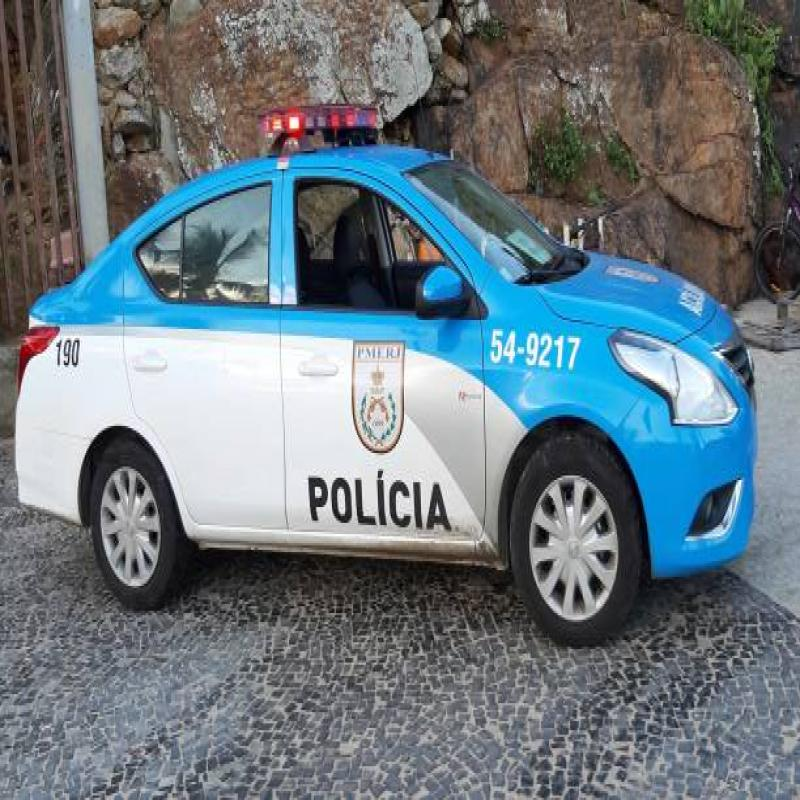AmbulanceSiren: (245, 66, 382, 144)
